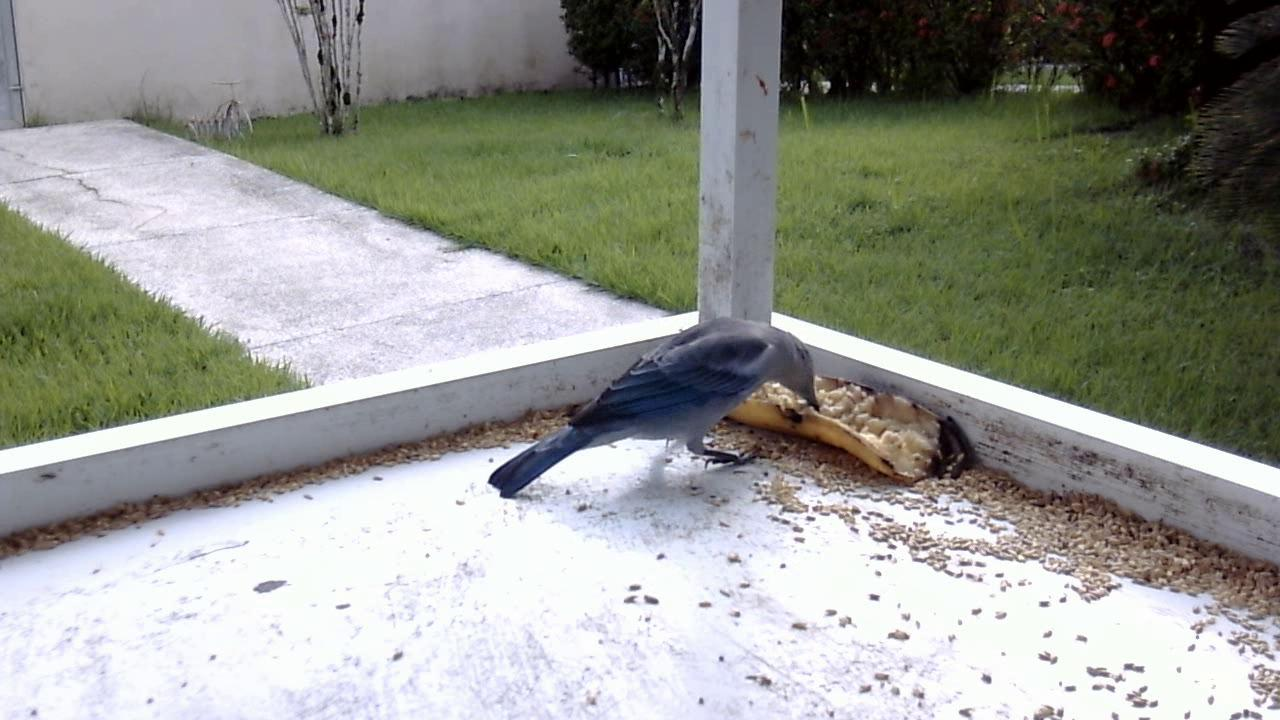sanhaco_da_amazonia: (487, 316, 822, 512)
